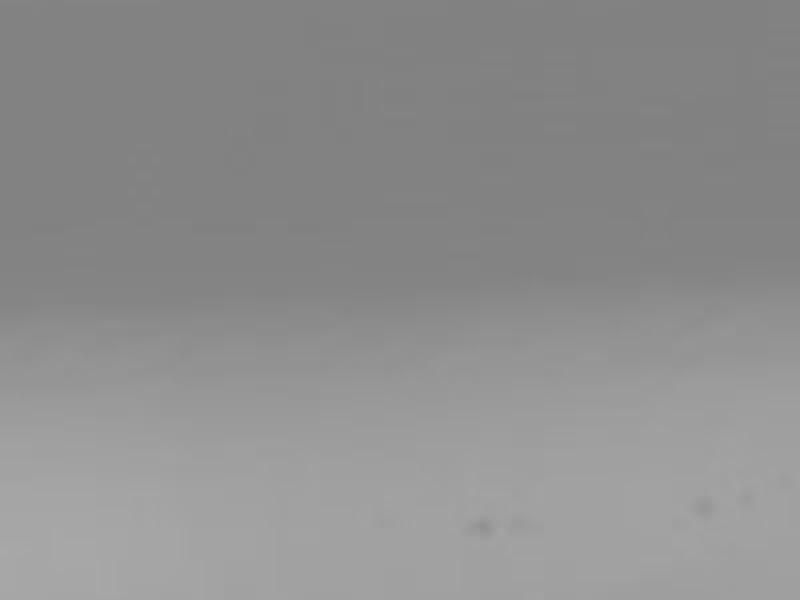defect: (684, 492, 712, 518), (470, 514, 494, 536)
